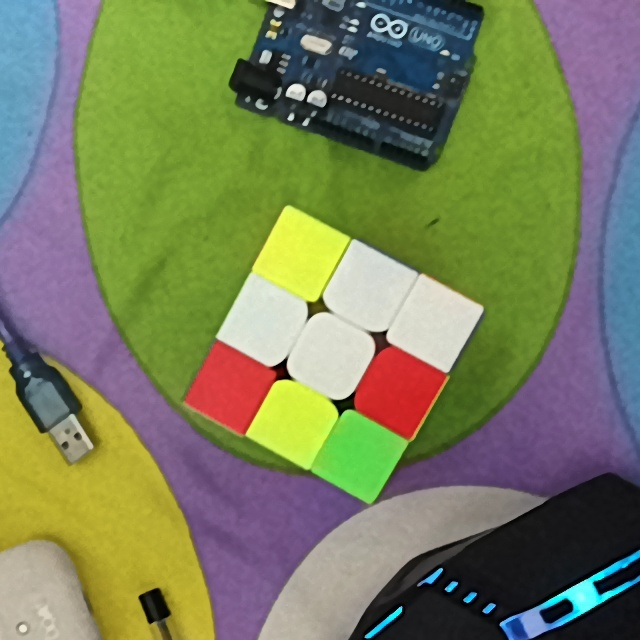tile: (273, 231, 329, 277), (305, 331, 356, 381), (340, 265, 392, 313), (406, 301, 458, 349), (201, 367, 254, 413), (375, 363, 425, 411), (334, 432, 384, 480), (241, 301, 288, 351), (269, 399, 317, 446)
